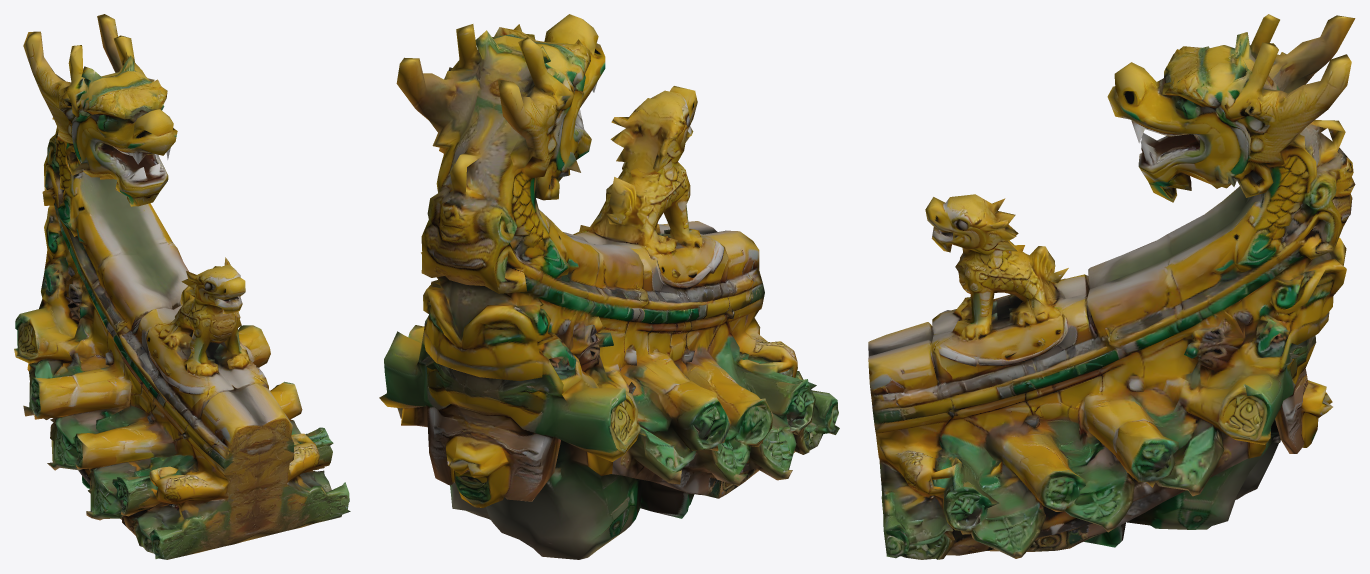
Rendered from chiwen.glb.
3 renders of one model, left to right at view 1: azimuth 30°, elevation 25°; view 2: azimuth 150°, elevation 25°; view 3: azimuth 270°, elevation 25°, orthographic. The views are drawn at different scales.
Visible parts, largest first — view 1: node_9c6f6eae-abde-41af-af5f-752dbf3e6ef9; view 2: node_9c6f6eae-abde-41af-af5f-752dbf3e6ef9; view 3: node_9c6f6eae-abde-41af-af5f-752dbf3e6ef9.
Part boxes in pixels (x1,y1,x2,y2): node_9c6f6eae-abde-41af-af5f-752dbf3e6ef9: (14, 14, 350, 559); node_9c6f6eae-abde-41af-af5f-752dbf3e6ef9: (379, 14, 839, 559); node_9c6f6eae-abde-41af-af5f-752dbf3e6ef9: (868, 14, 1355, 559).
Bounding box in the file's own units: 0.6316 × 1 × 0.9274.
Materials: 1 (1 with a texture image).
